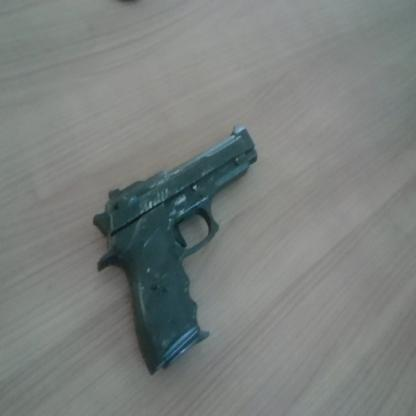handgun: (91, 122, 285, 381)
